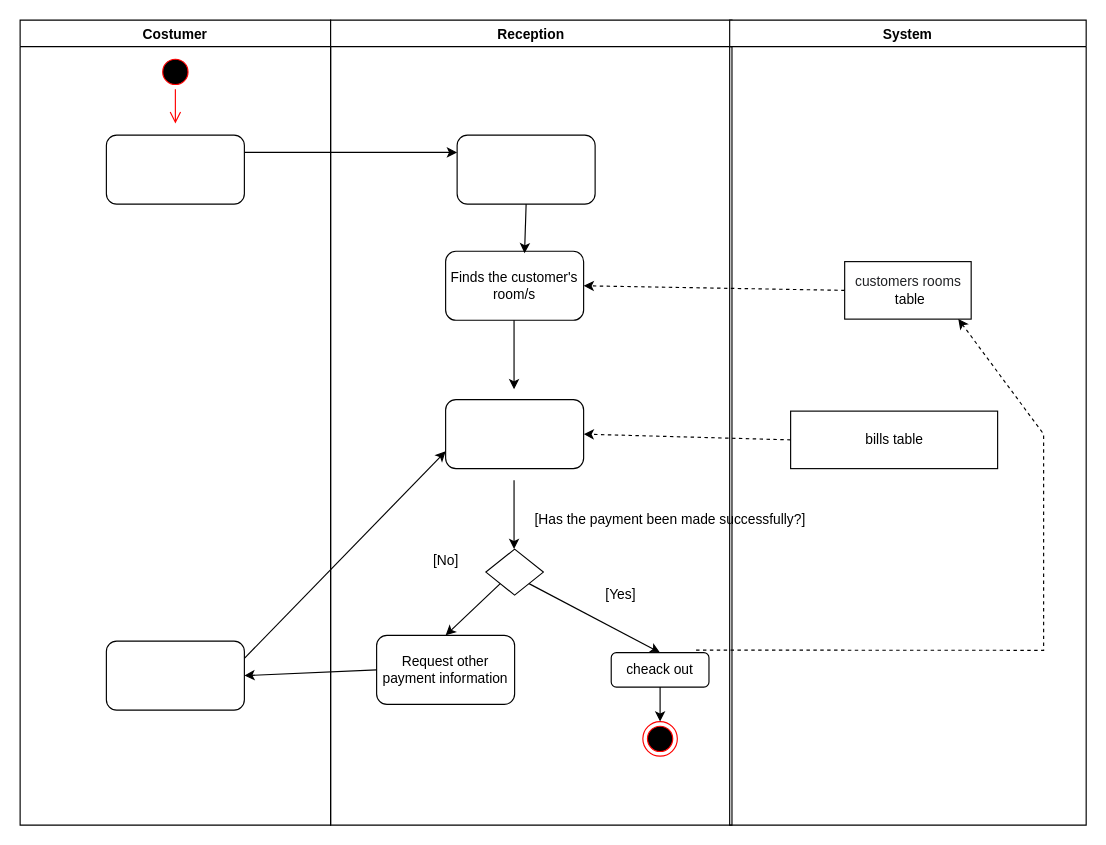
Some shapes in this 1106 by 845 pixel diagram are drawn without their labels. Here are the shapes that lost their labels. From the top down, the centre of each, then its label:
(174,169): The customer requests to check out
(525,169): Fill in customer details
(514,433): charge the customer
(174,675): Enter payment information
